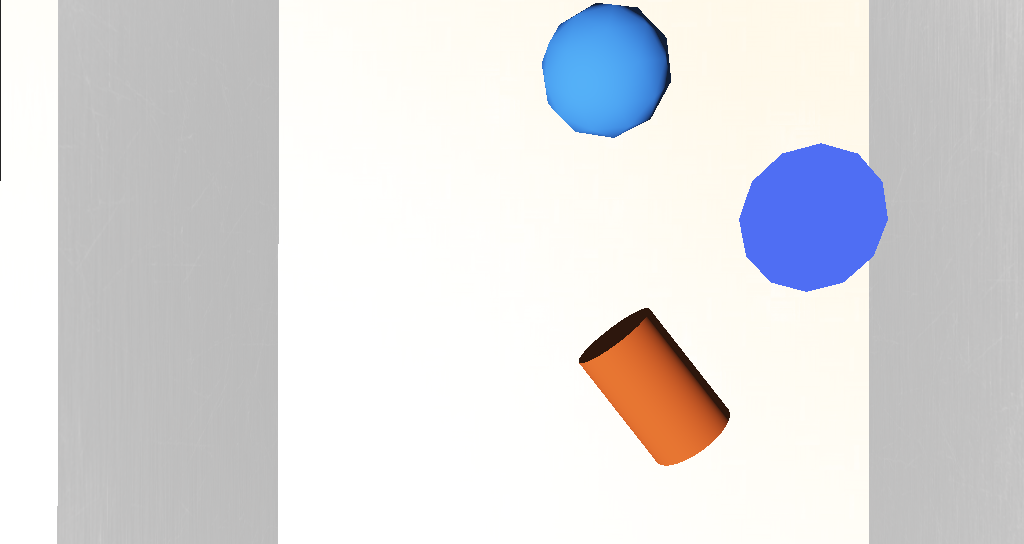cone: (509, 284, 583, 336)
cylinder: (569, 222, 643, 274)
sphere: (485, 179, 552, 222)
